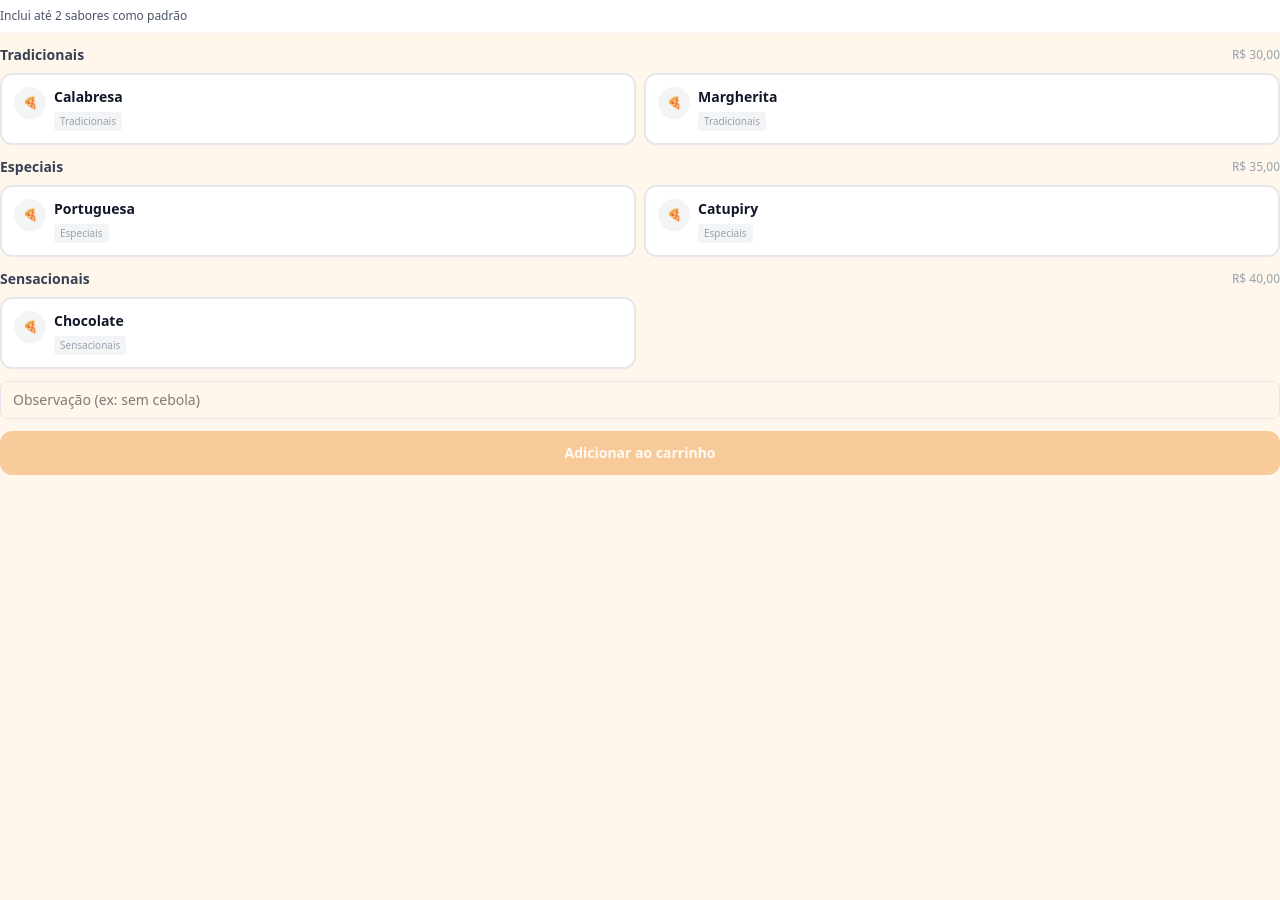
Test case: FlavorSelector — US1: confirmação explícita do 3º sabor (NAD-8) › "Cancelar" fecha o modal sem alterar seleção nem preço (FR-006/SC-003)
Click the button "🍕 Calabresa Tradicionais": (30,103) [0,73,636,145]
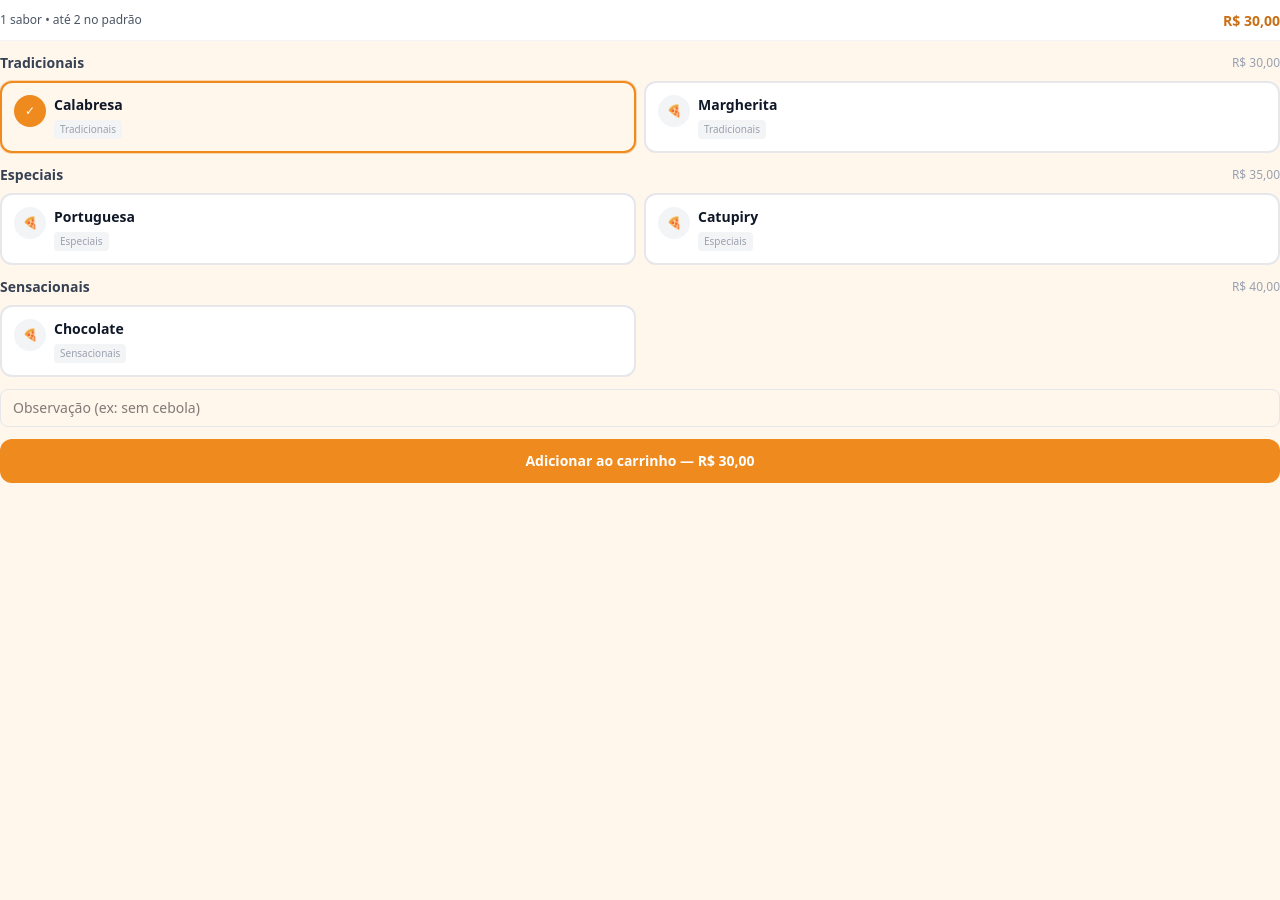
Click the button "🍕 Margherita Tradicionais": (674,111) [644,81,1279,153]
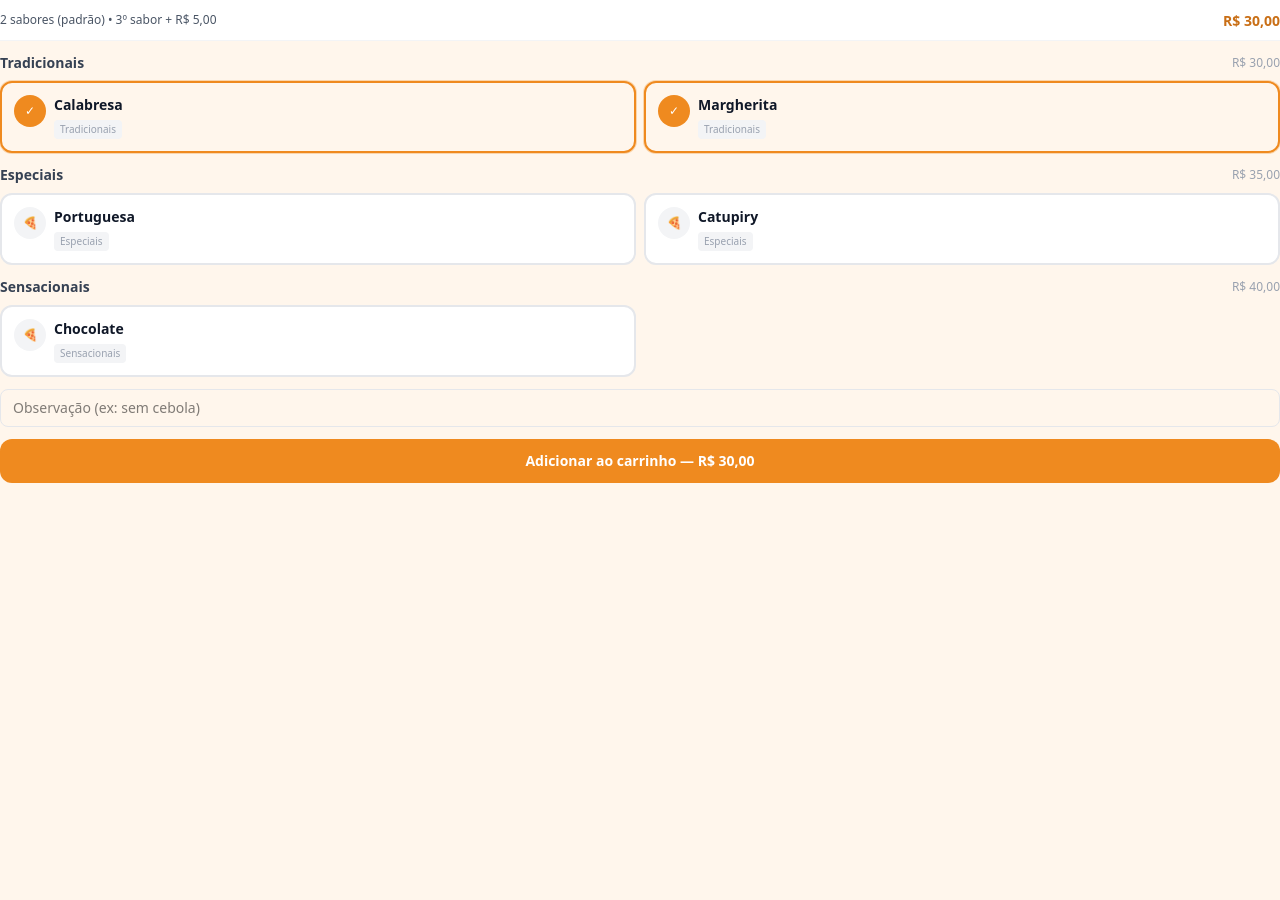
Click the button "🍕 Portuguesa Especiais": (30,223) [0,193,636,265]
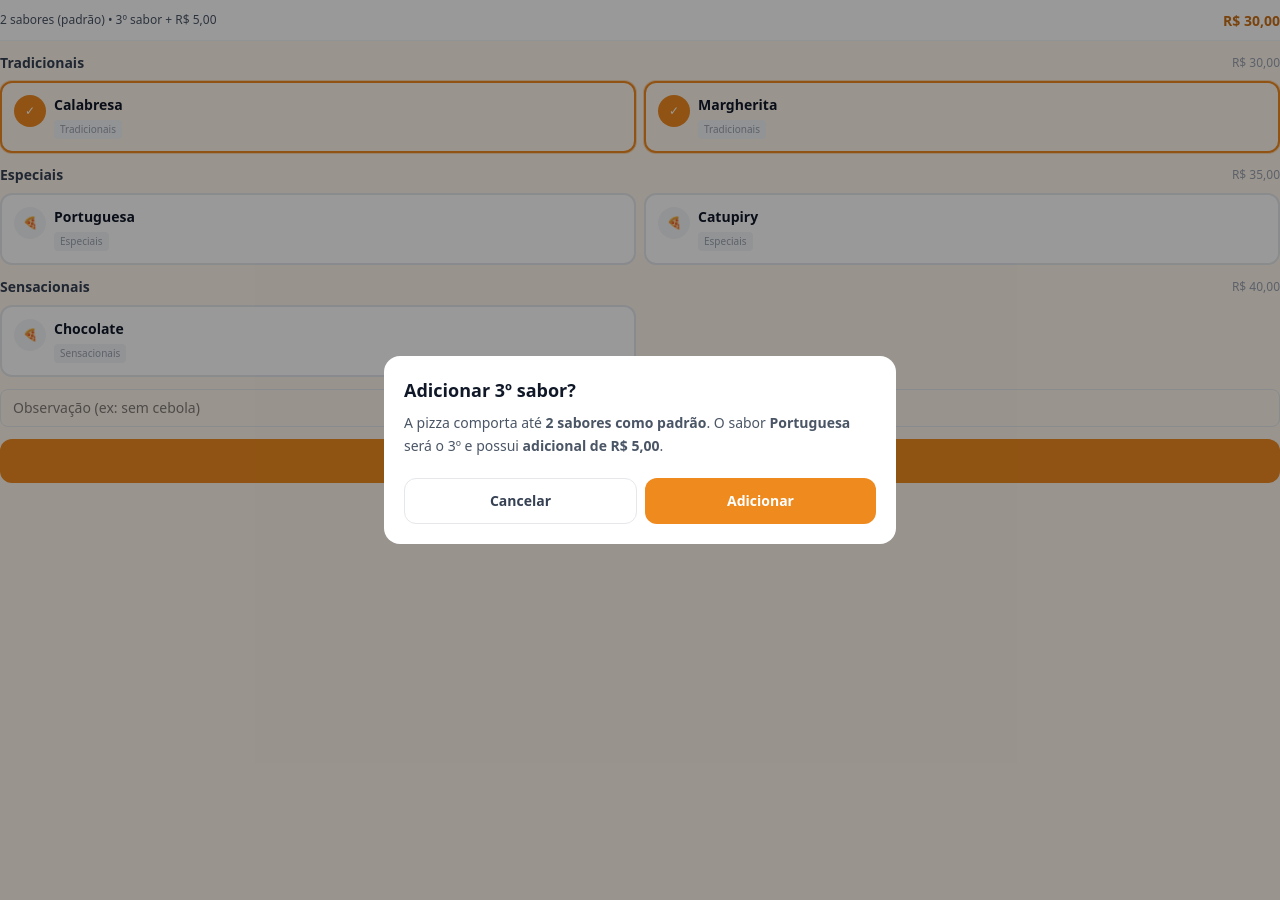
Click the button "Cancelar": (520,501) [404,478,637,524]
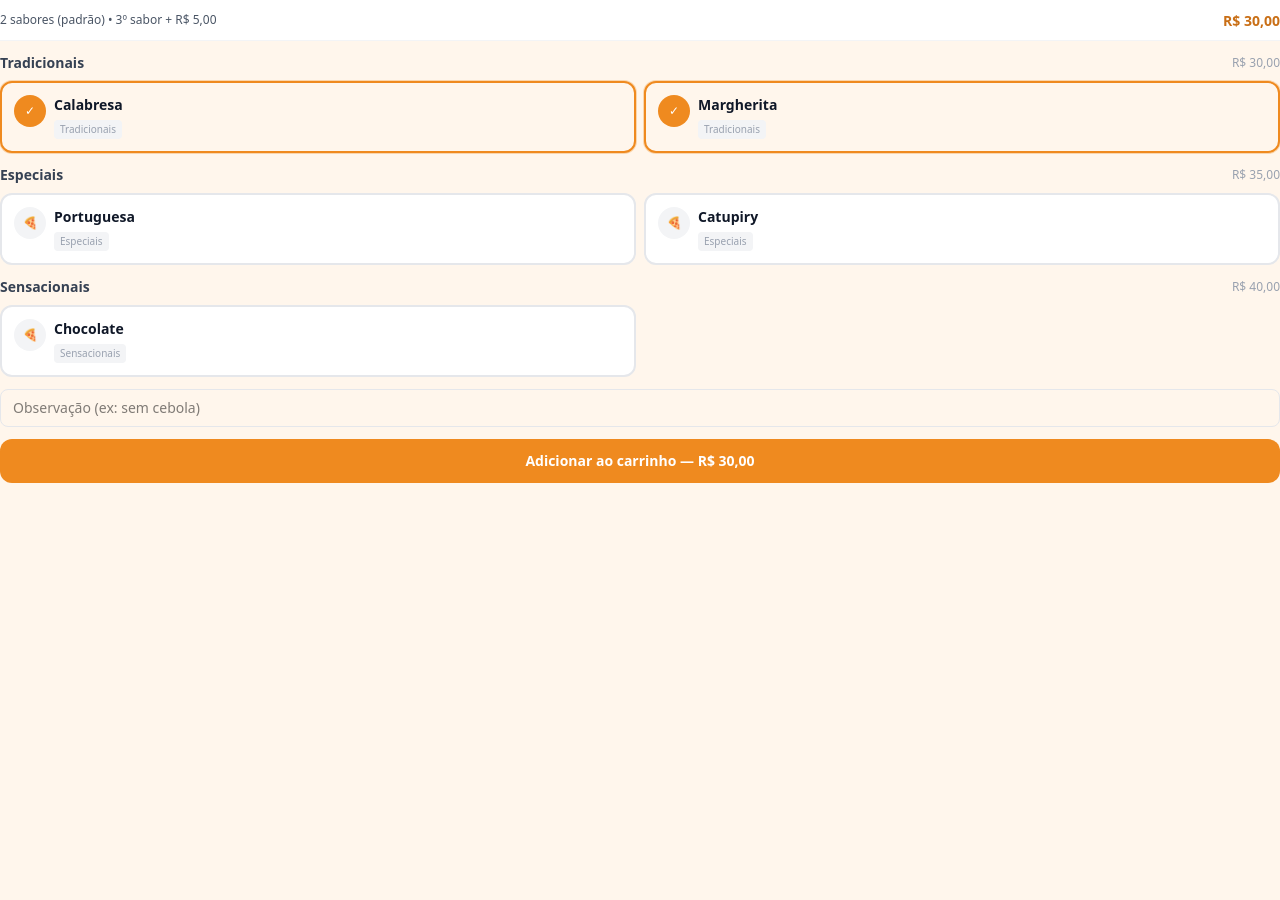
Expected: the text "R$ 30,00" is shown, [1223,11,1279,30]
Expected: the dialog is gone
